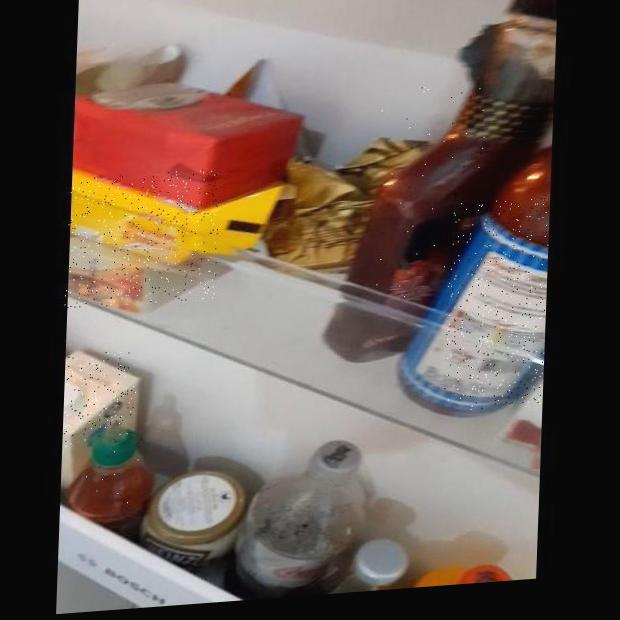butter: (64, 168, 220, 309)
milk: (63, 349, 138, 447)
sauce: (372, 82, 488, 303), (444, 195, 550, 413), (82, 425, 151, 516)
